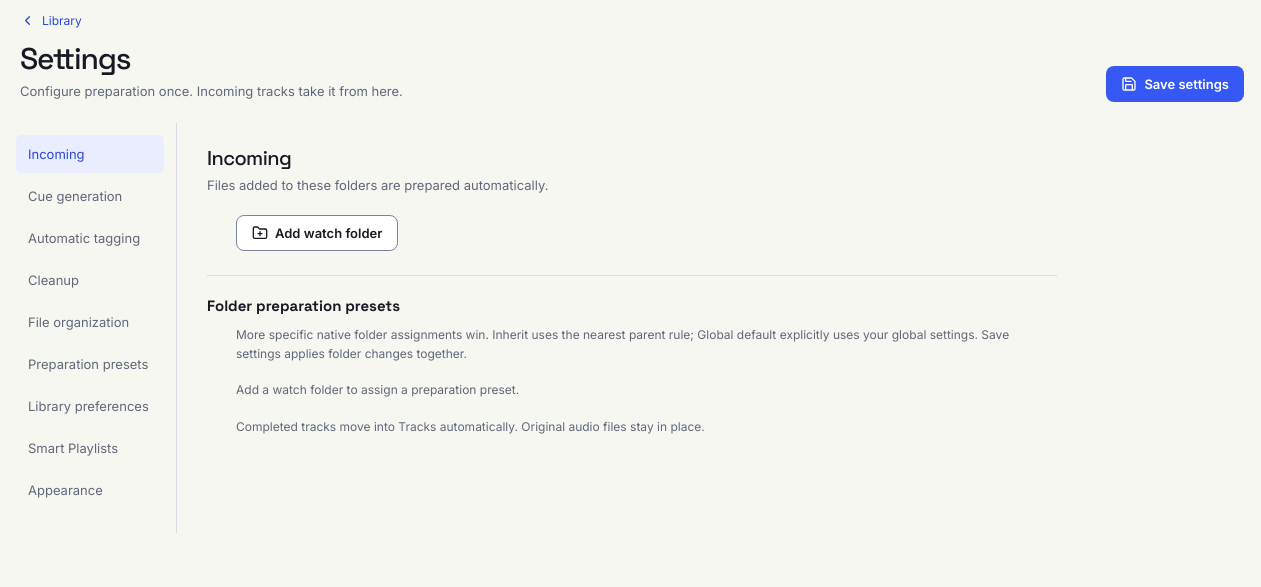
waveform styles in the app › offers Appearance as a settings page without a save button
Check: the button "Save settings" is shown, box [1106,66,1244,102]
Step 1. Click the button "Appearance" → (90, 490), box [16,470,164,508]
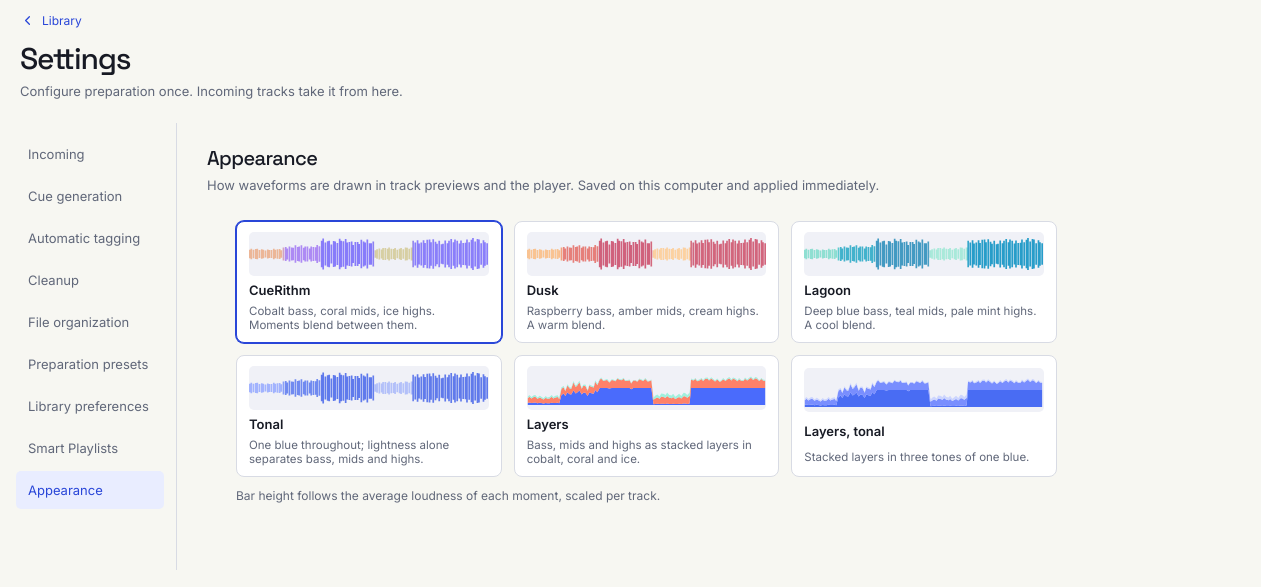
Check: the element named "Waveform style" is shown, box [207,215,1057,477]
Check: the button "Save settings" is gone
